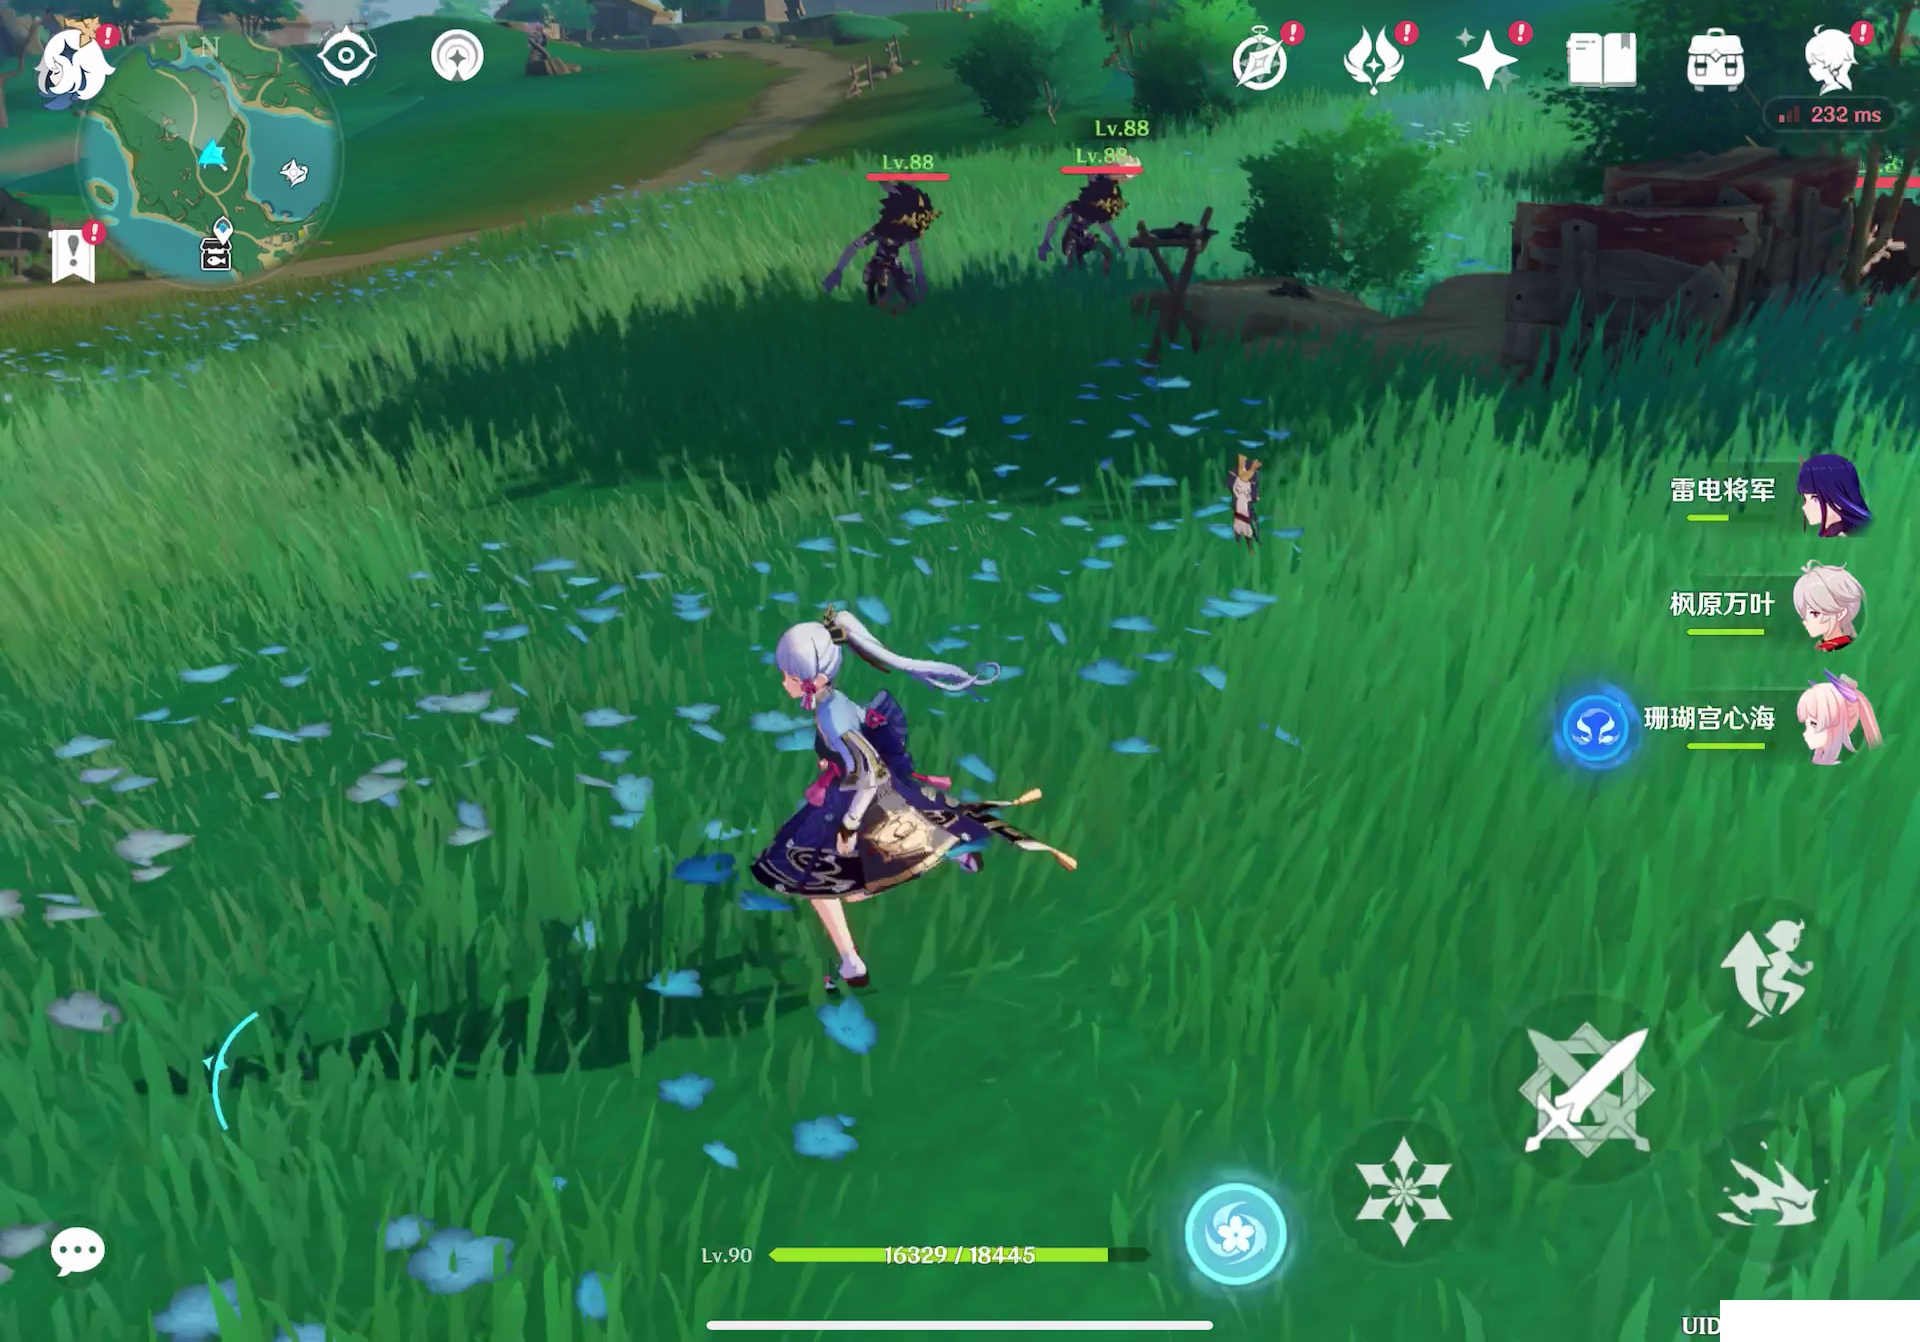丘丘人: (839, 182, 953, 317), (1045, 177, 1120, 284)
神里绫龟: (705, 598, 1061, 974)
